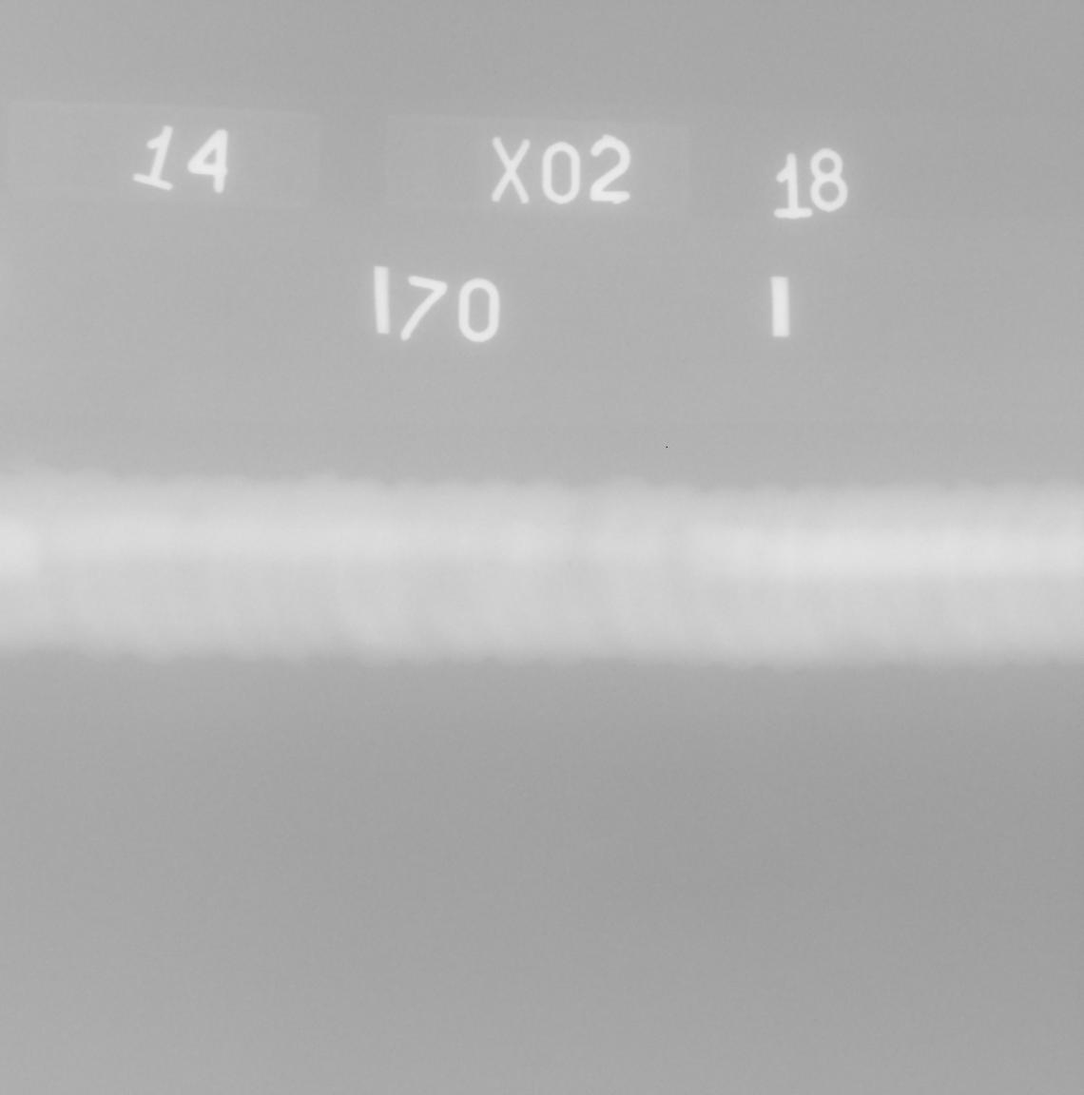Pore/Porosity: (706, 557, 714, 562), (566, 561, 573, 566), (722, 564, 726, 567)
